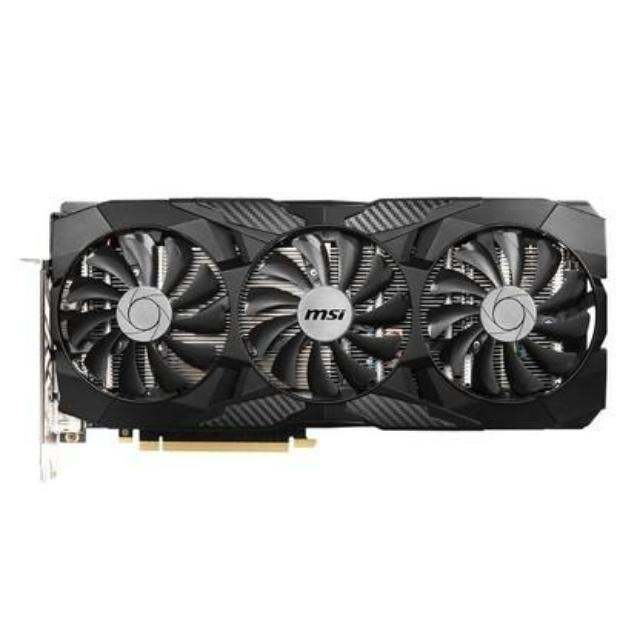GPU: (36, 192, 621, 468)
